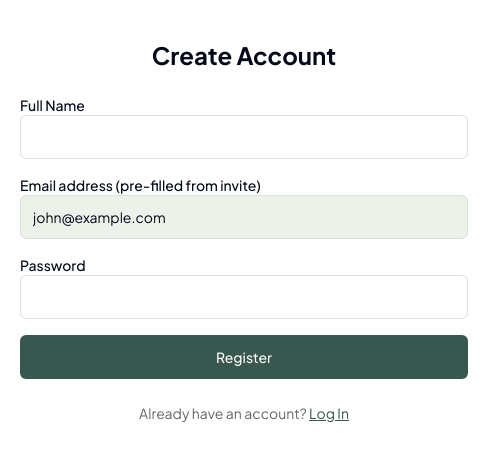
Test case: RegistrationForm › bad cases › shows server error when signup fails
The width and height of the screenshot is (489, 469).
Type "John Doe" into the field labelled "Full Name" at [244, 137], box [20,115,468,159]
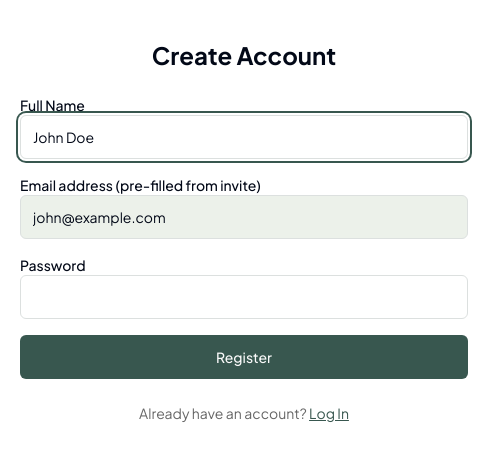
Type "password123" into the password field labelled "Password" at [244, 297], box [20,275,468,319]
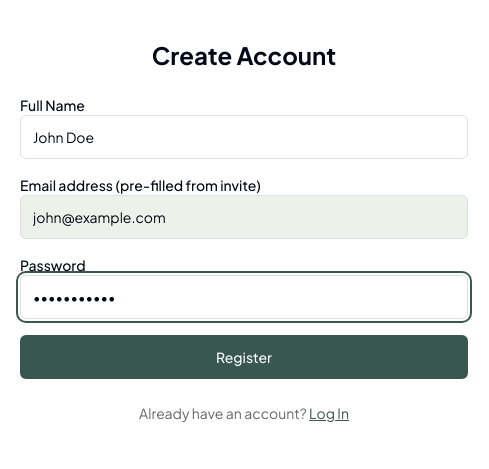
Click the button "Register" at [244, 357], box [20,335,468,379]
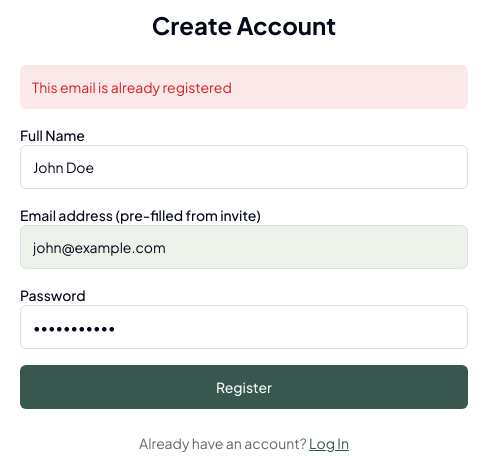
expect the text "This email is already registered" is shown: met, box [20,65,468,109]
